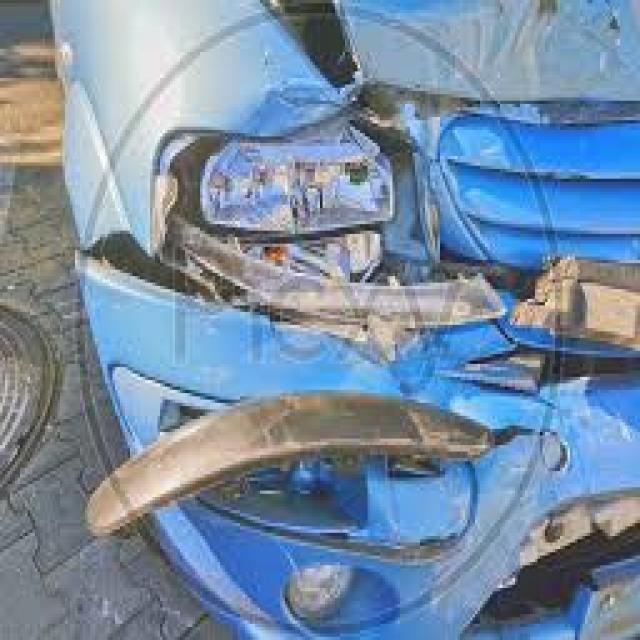damaged-head-light: (163, 125, 414, 273)
